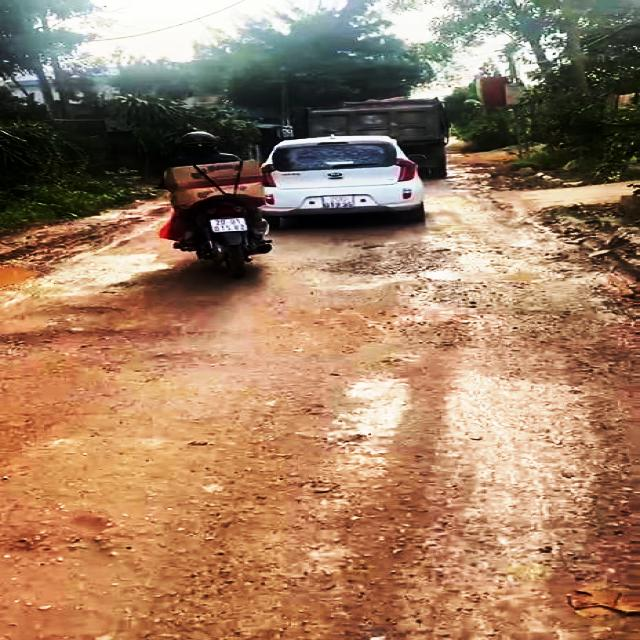pothole: (345, 249, 572, 286), (0, 252, 63, 286)
